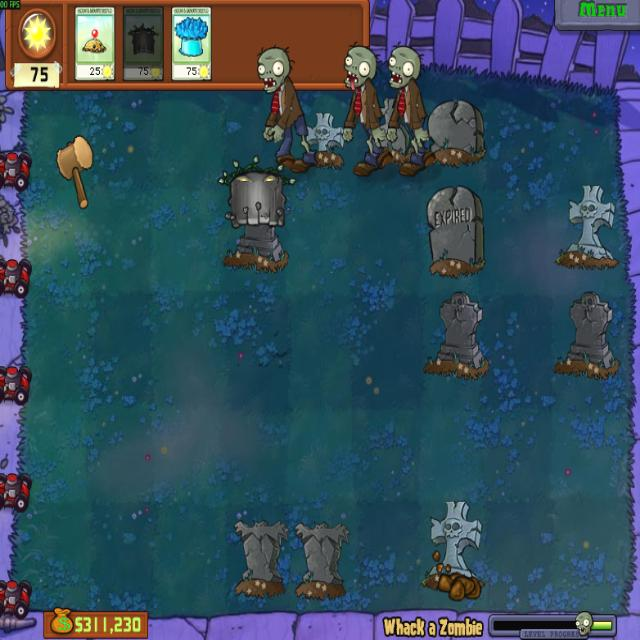grave: (422, 500, 485, 596), (426, 290, 492, 378), (554, 293, 620, 378), (425, 188, 487, 276), (555, 185, 617, 269), (229, 516, 288, 596), (293, 520, 349, 596), (424, 97, 486, 163), (301, 110, 344, 169), (370, 99, 408, 154)
zombie: (255, 45, 292, 95), (341, 44, 378, 92), (386, 44, 421, 89)
